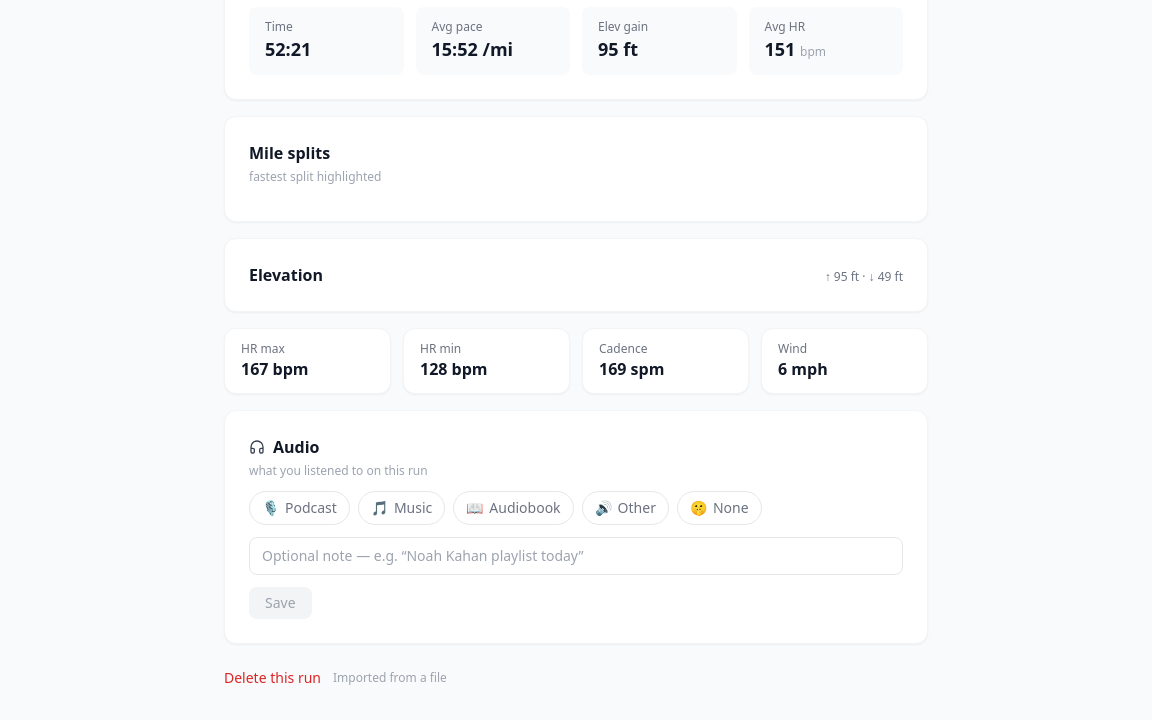
Test: RunDetailView (SB-263) › delete control › asks before deleting, naming what goes and that it cannot be undone
This screenshot has width=1152, height=720.
(page scrolled)
Note: Nothing is requested just by opening the confirm.
Click the button "Delete this run".
click(272, 678)  # box [224, 668, 321, 688]
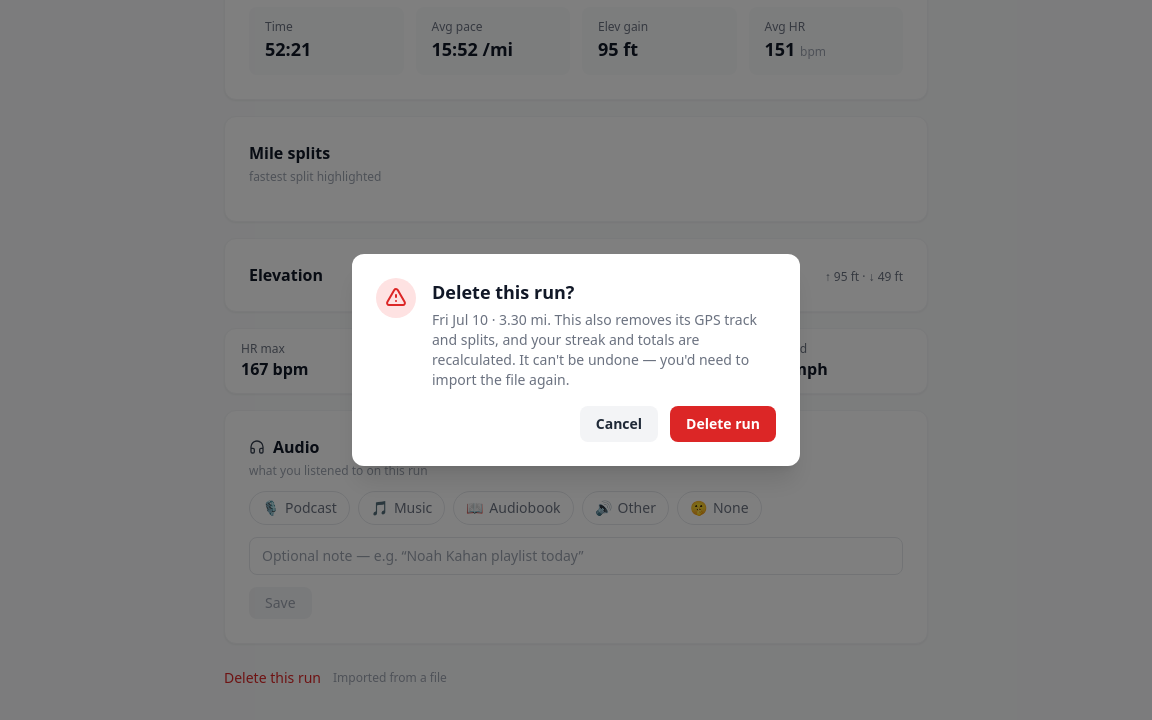
Expected: the text "can't be undone" is shown, [432, 310, 757, 389]
Expected: the text "GPS track and splits" is shown, [432, 310, 757, 389]
